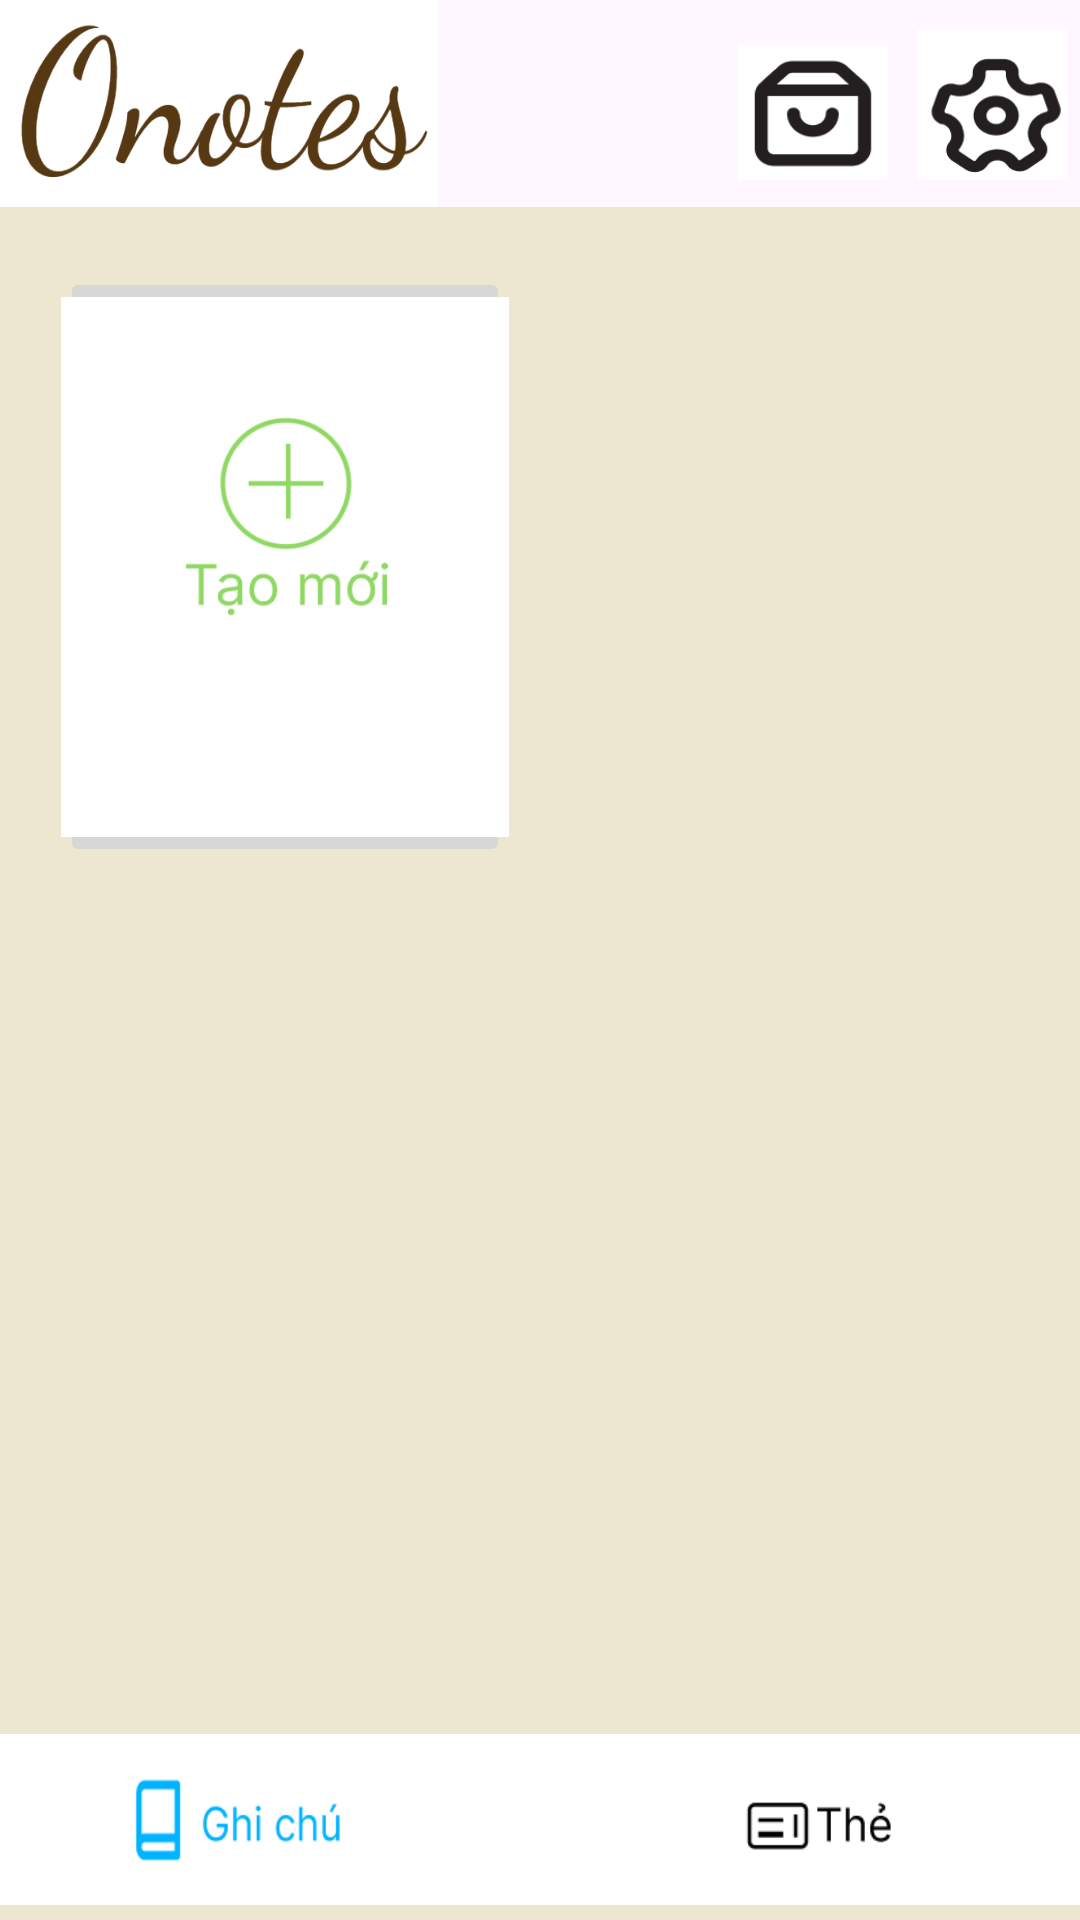

Icons on this 1080×1920 Android screen, each with the point to tap as point (x, y):
shop: point (813, 113)
